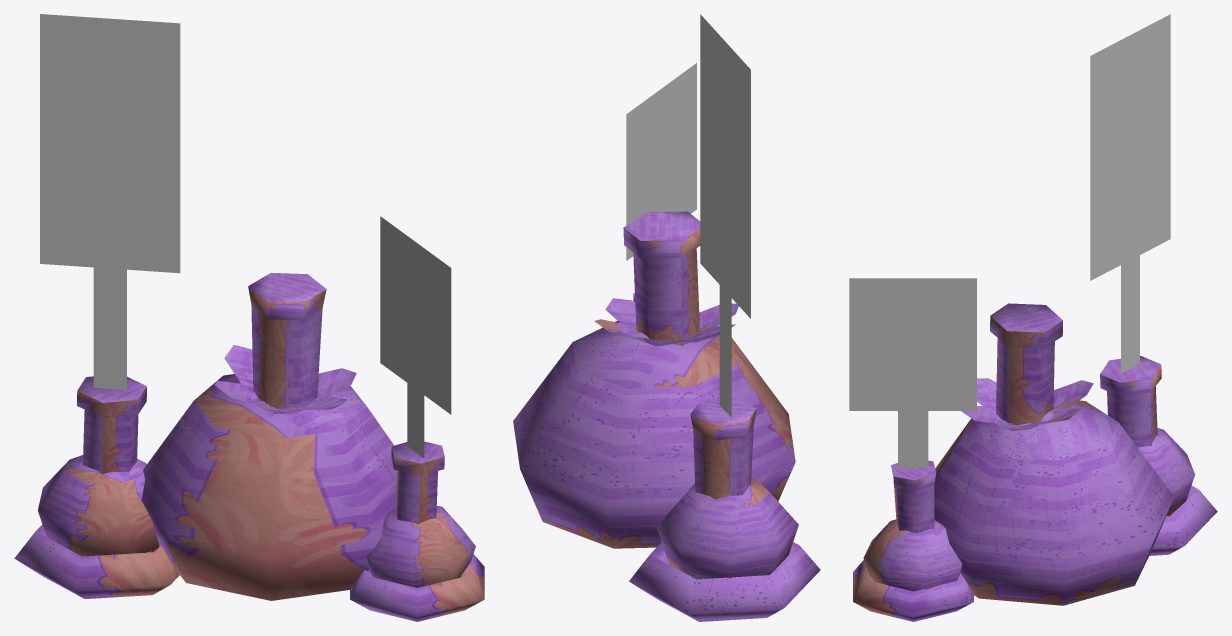
File: Flower_02_b.fbx
The picture shows the model from 3 angles, left to right: view 1: azimuth 30°, elevation 25°; view 2: azimuth 150°, elevation 25°; view 3: azimuth 270°, elevation 25°; orthographic projection. The views are drawn at different scales.
Parts seen in each view (by area): view 1: Flower_02_b_Art; view 2: Flower_02_b_Art; view 3: Flower_02_b_Art.
Part boxes in pixels (bbox=[...]): Flower_02_b_Art: bbox=[14, 14, 484, 621]; Flower_02_b_Art: bbox=[513, 14, 820, 621]; Flower_02_b_Art: bbox=[849, 14, 1217, 621].
Size of what is drawn, in the model's own units: 0.4915 by 0.7849 by 0.5256.
